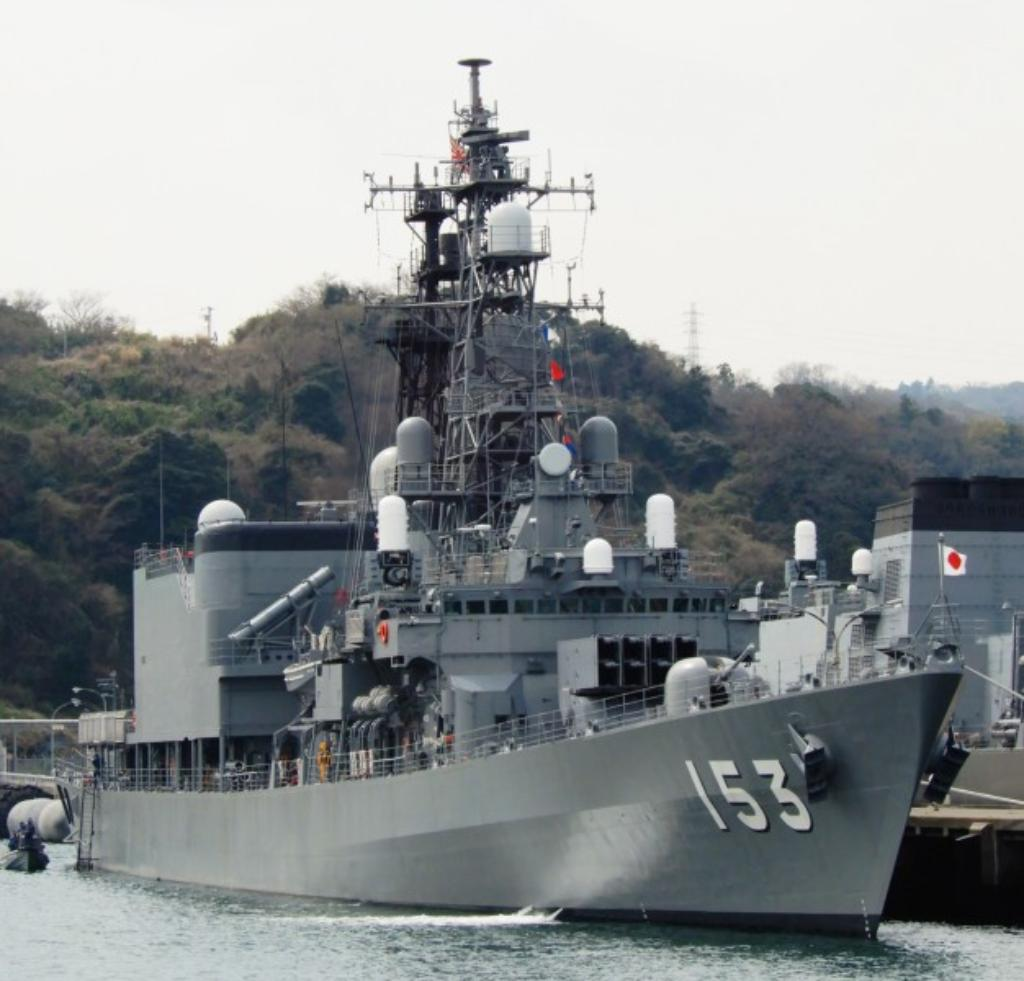Warship: (72, 54, 970, 948)
